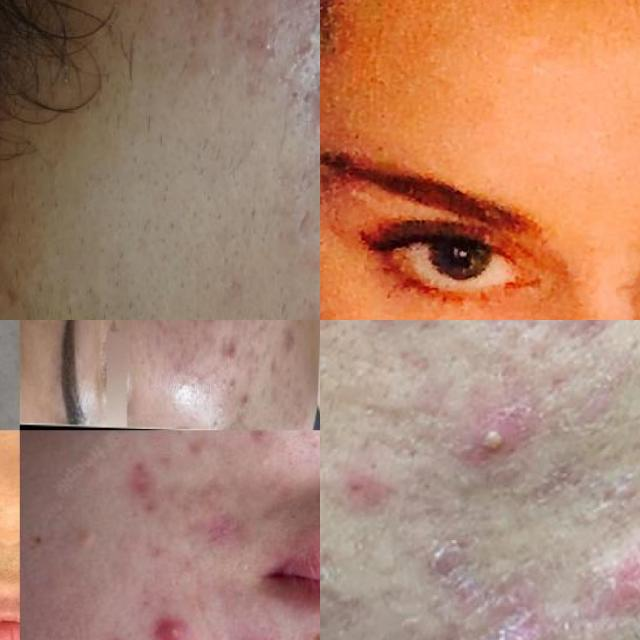acne_scars: (213, 0, 246, 51)
comedone: (212, 392, 226, 417)
papule: (589, 546, 640, 640), (122, 458, 162, 514), (480, 614, 549, 640), (224, 322, 242, 361), (244, 430, 277, 446), (102, 631, 129, 640)
pustule: (459, 418, 527, 482), (148, 612, 199, 640)
sebo-crystan-conglo: (306, 75, 320, 127)
